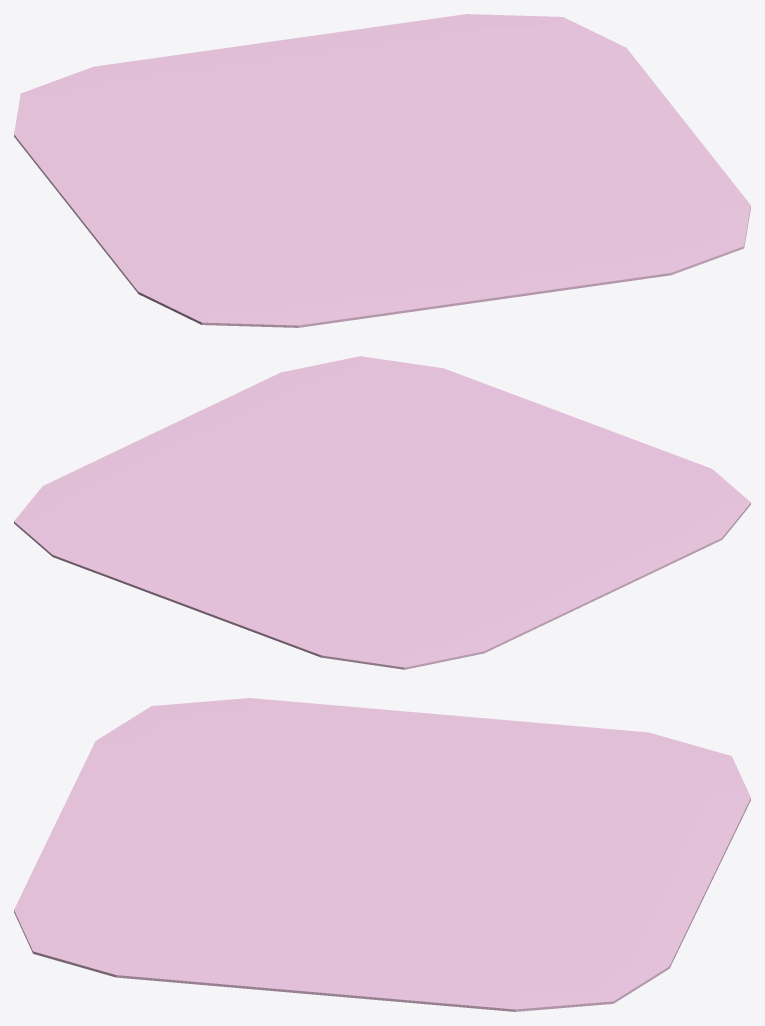
The model's file is Girll room update mousepad.fbx.
3 views of the same model, one above another, from view 1: azimuth 30°, elevation 25°; view 2: azimuth 150°, elevation 25°; view 3: azimuth 270°, elevation 25° (orthographic). The views are drawn at different scales.
Parts seen in each view (by area): view 1: Cube.002; view 2: Cube.002; view 3: Cube.002.
Part boxes in pixels (bbox=[...]): Cube.002: bbox=[14, 14, 750, 327]; Cube.002: bbox=[14, 356, 750, 669]; Cube.002: bbox=[14, 698, 750, 1011].
Size of the model in its own units: 55.09 by 0.3389 by 55.09.
